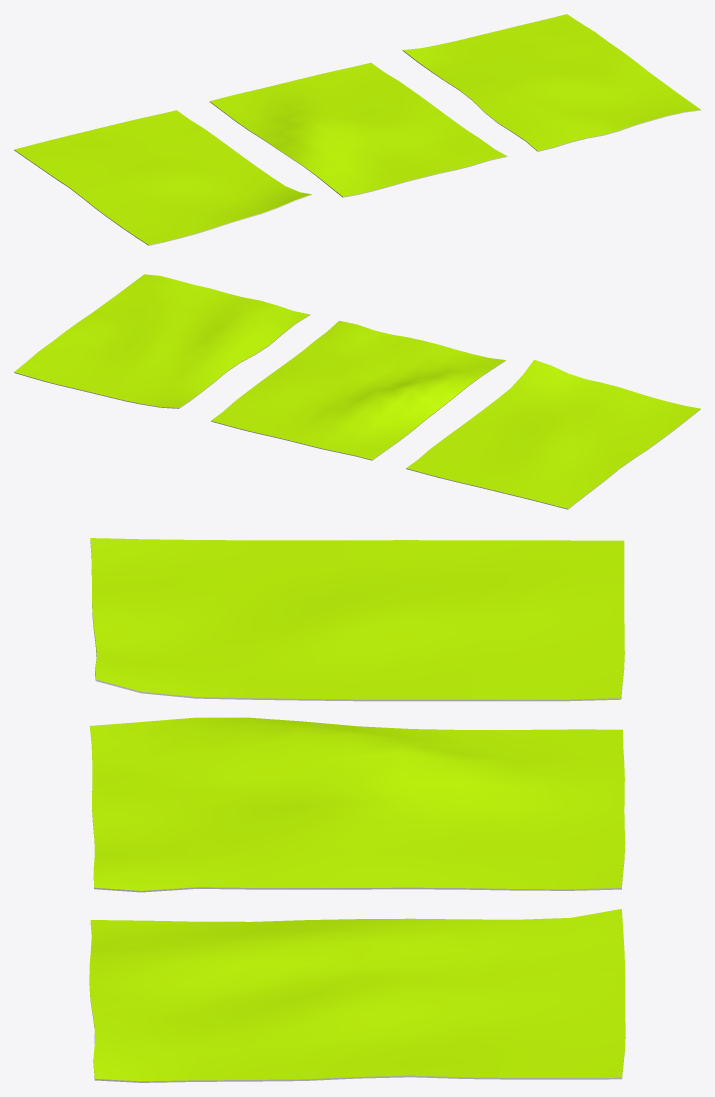
The model's file is Sheets Of Paper.fbx.
3 renders of one model, top to bottom at view 1: azimuth 30°, elevation 25°; view 2: azimuth 150°, elevation 25°; view 3: azimuth 270°, elevation 25°, orthographic. The views are drawn at different scales.
Parts seen in each view (by area): view 1: Sheet_3, Sheet_2, Sheet_1; view 2: Sheet_1, Sheet_3, Sheet_2; view 3: Sheet_2, Sheet_3, Sheet_1.
Part boxes in pixels (left/top/right/bottom): Sheet_3: left=402, top=14, right=700, bottom=151; Sheet_2: left=209, top=63, right=507, bottom=197; Sheet_1: left=14, top=110, right=311, bottom=245; Sheet_1: left=406, top=359, right=700, bottom=509; Sheet_3: left=14, top=274, right=310, bottom=408; Sheet_2: left=211, top=320, right=505, bottom=460; Sheet_2: left=89, top=717, right=625, bottom=892; Sheet_3: left=89, top=909, right=625, bottom=1082; Sheet_1: left=90, top=538, right=624, bottom=701.
Size of the model in its own units: 114 by 2.73 by 47.8.
